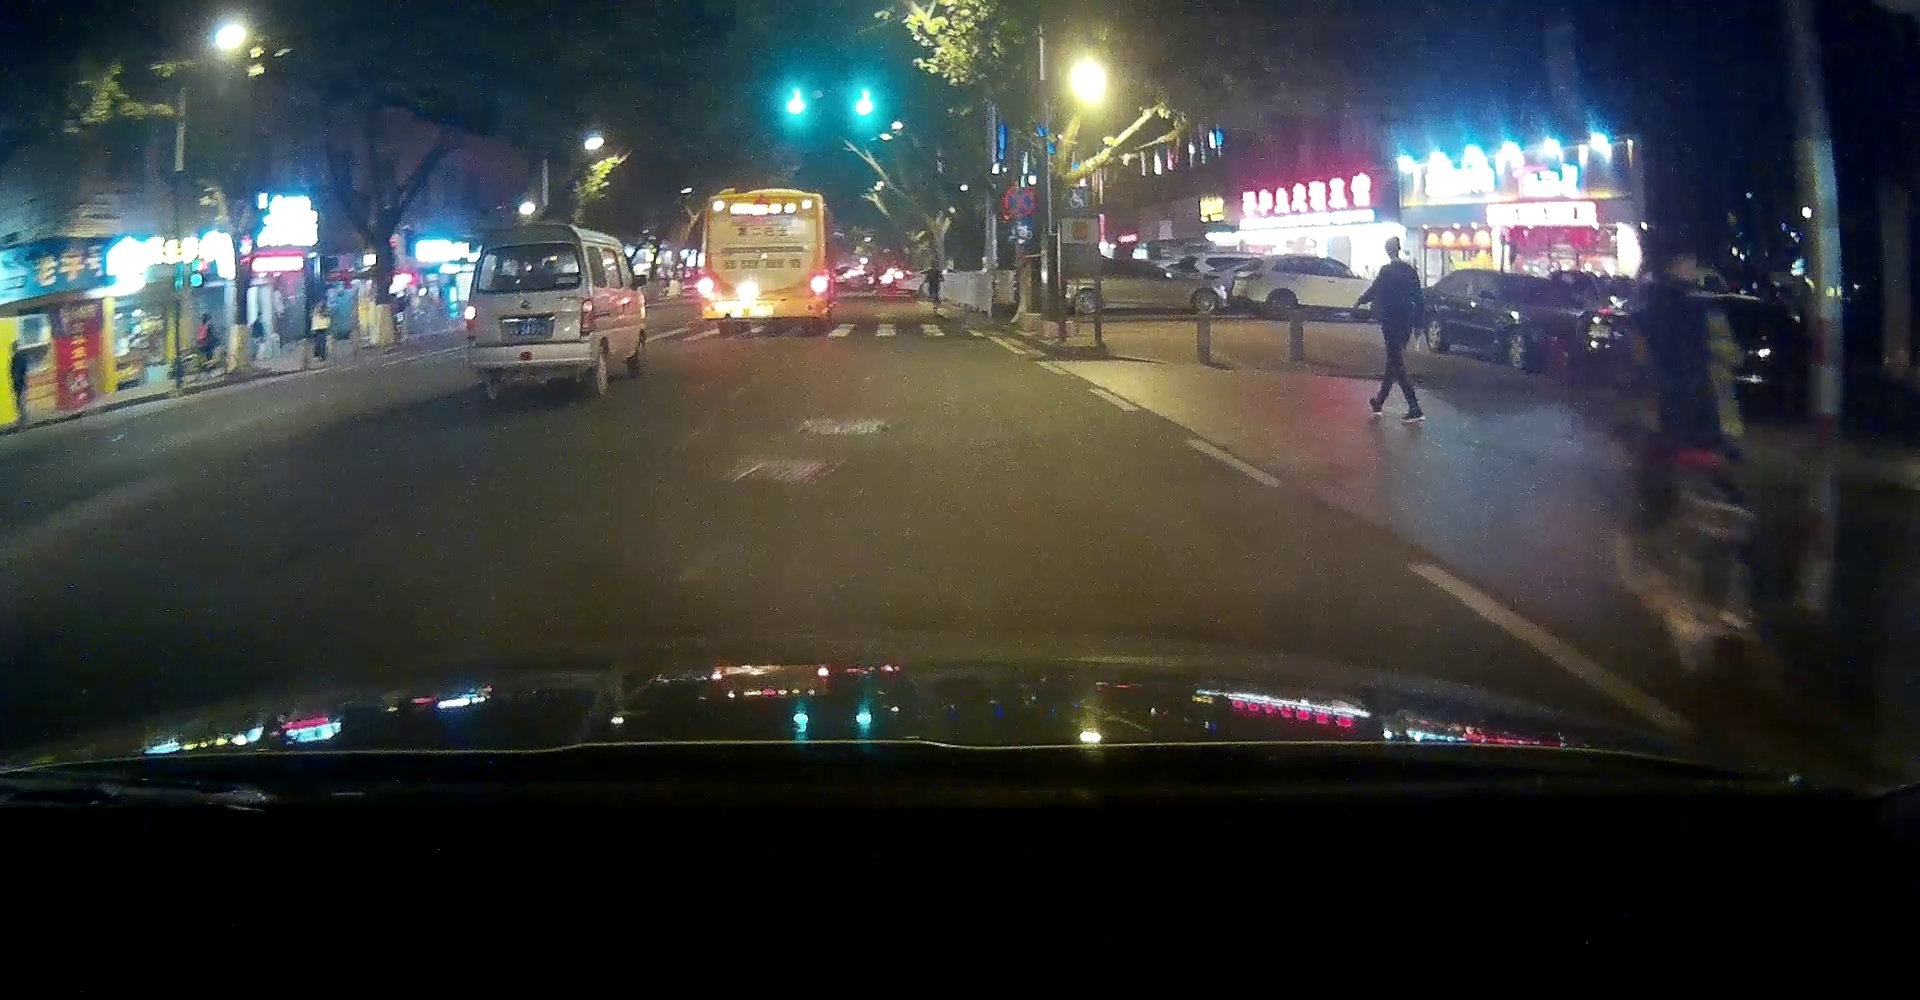L_light: (463, 306, 477, 341), (696, 275, 714, 302)
R_light: (579, 298, 593, 338), (810, 275, 827, 297)
T_light: (519, 244, 538, 247), (757, 198, 772, 201)
night-no: (463, 222, 594, 398), (697, 189, 827, 335)
